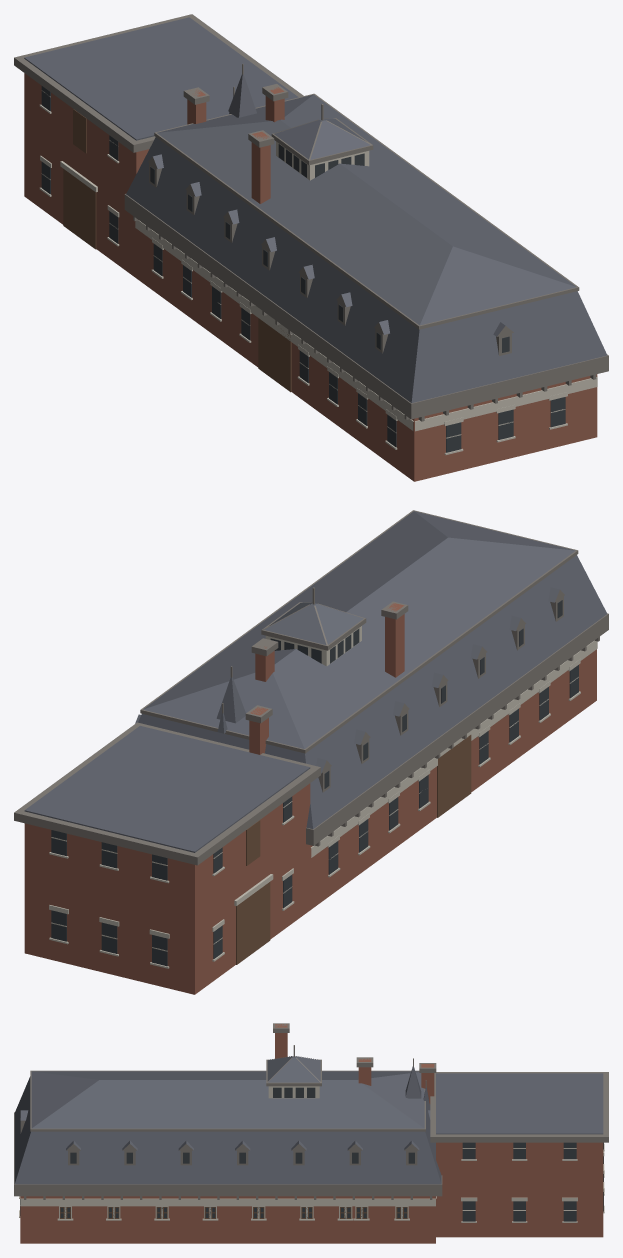
Rendered from marshall_field_house_1905_prairie_coach_house__draft_1904.glb.
3 views of the same model, one above another, from view 1: azimuth 30°, elevation 25°; view 2: azimuth 150°, elevation 25°; view 3: azimuth 270°, elevation 25° (orthographic). The views are drawn at different scales.
Visible parts, largest first — view 1: marshall_field_house_1905_prairie_coach_house__draft_1904; view 2: marshall_field_house_1905_prairie_coach_house__draft_1904; view 3: marshall_field_house_1905_prairie_coach_house__draft_1904.
Boxes of the visible parts, x1=… form: marshall_field_house_1905_prairie_coach_house__draft_1904: x1=14, y1=14, x2=608, y2=481; marshall_field_house_1905_prairie_coach_house__draft_1904: x1=14, y1=510, x2=608, y2=994; marshall_field_house_1905_prairie_coach_house__draft_1904: x1=14, y1=1023, x2=608, y2=1243.
Bounding box in the file's own units: 10.6 × 11.32 × 36.95.
